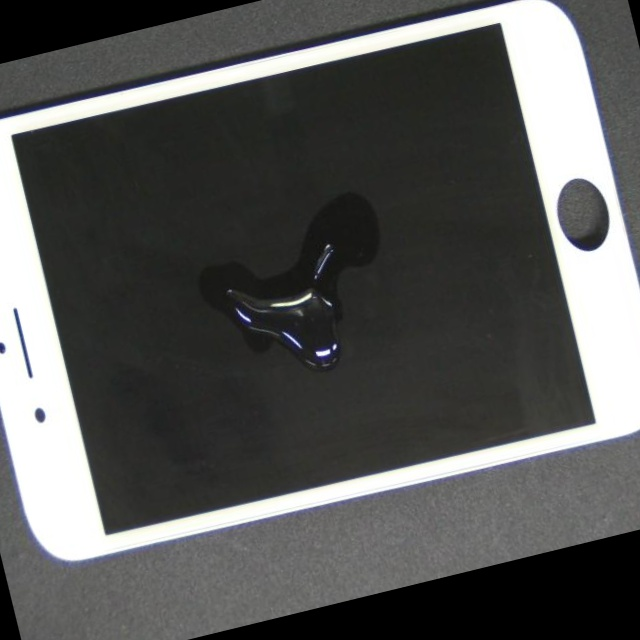oil: (7, 70, 385, 480)
